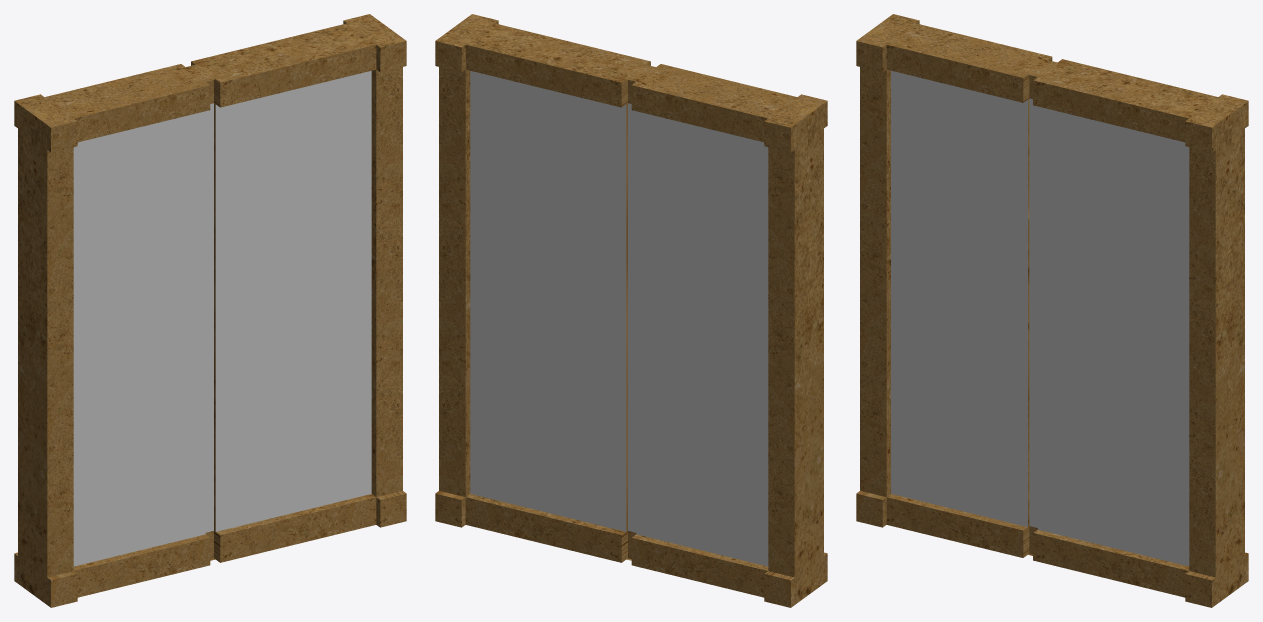
File: Stone_Door.fbx
The picture shows the model from 3 angles, left to right: view 1: azimuth 30°, elevation 25°; view 2: azimuth 150°, elevation 25°; view 3: azimuth 330°, elevation 25°; orthographic projection.
Parts seen in each view (by area): view 1: pCube1; view 2: pCube1; view 3: pCube1.
Part boxes in pixels (bbox=[...]): pCube1: bbox=[14, 14, 406, 607]; pCube1: bbox=[435, 14, 827, 607]; pCube1: bbox=[856, 14, 1248, 607].
Size of the model in its own units: 127 by 164 by 22.82.
